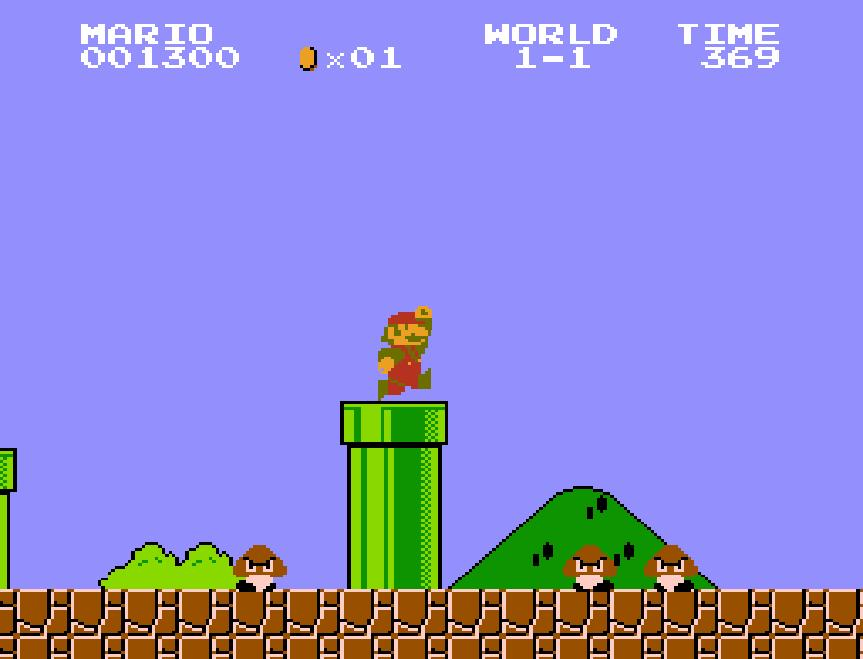big_mario: (376, 304, 434, 402)
